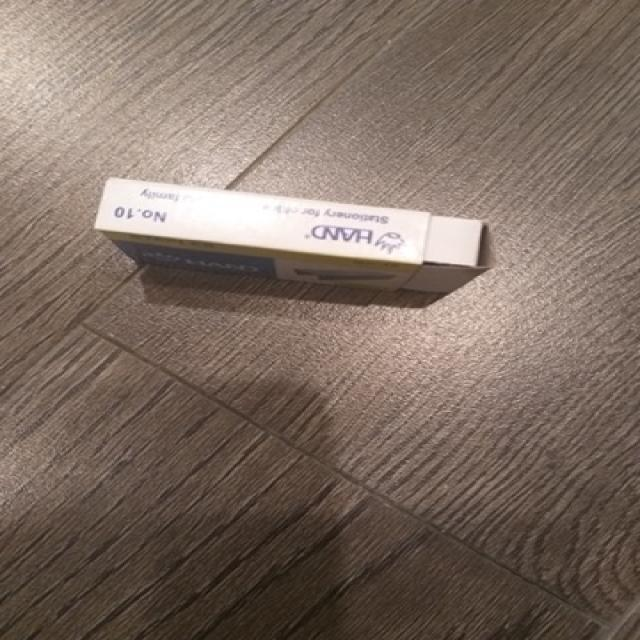PaperCardboard: (93, 174, 504, 314)
